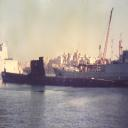submarine: (1, 57, 122, 90)
